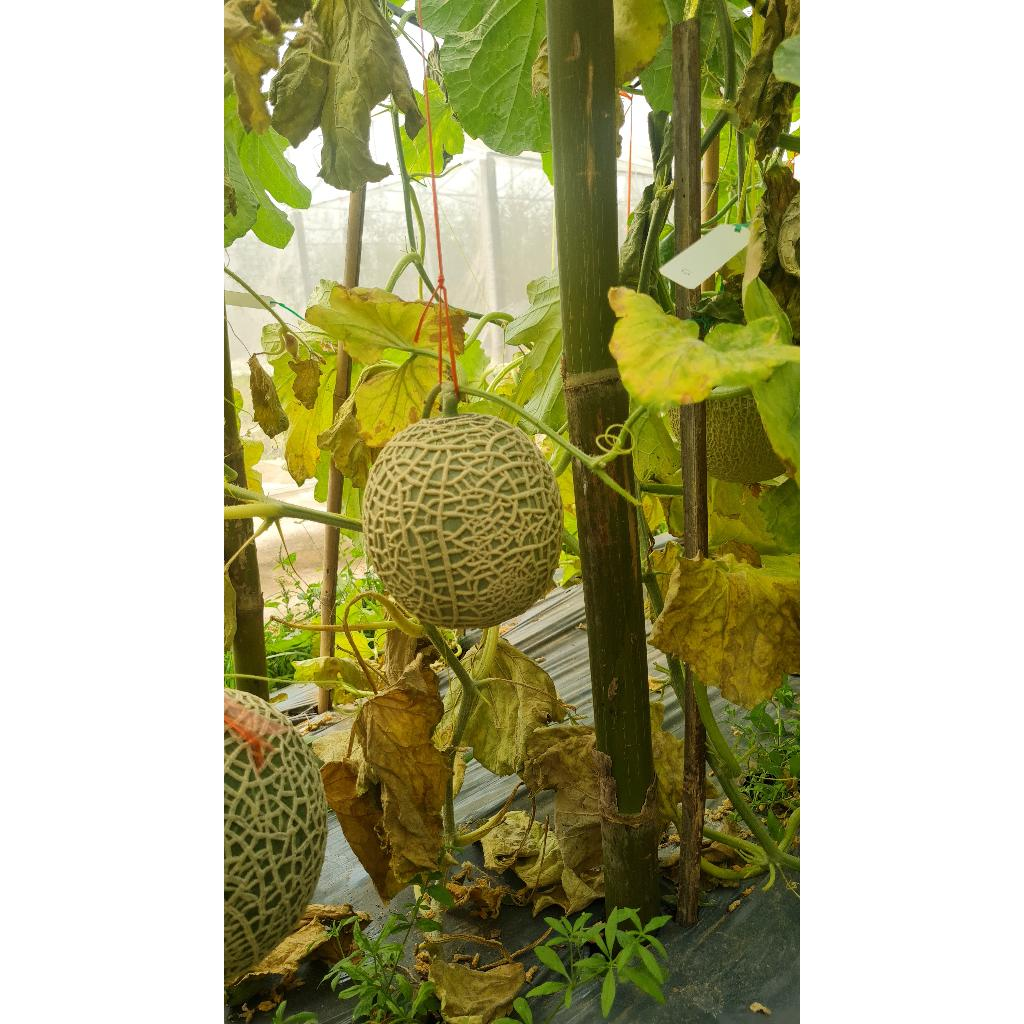melon: (362, 414, 562, 628), (224, 690, 328, 982)
